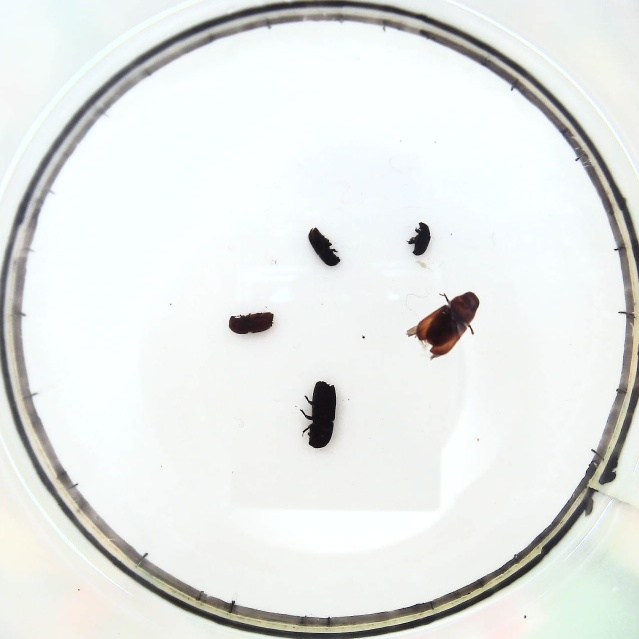armandi: (308, 226, 341, 269)
boerner: (300, 378, 337, 450)
coleoptera: (408, 221, 431, 259)
leconte: (405, 290, 481, 358)
linnaeus: (227, 309, 274, 335)
